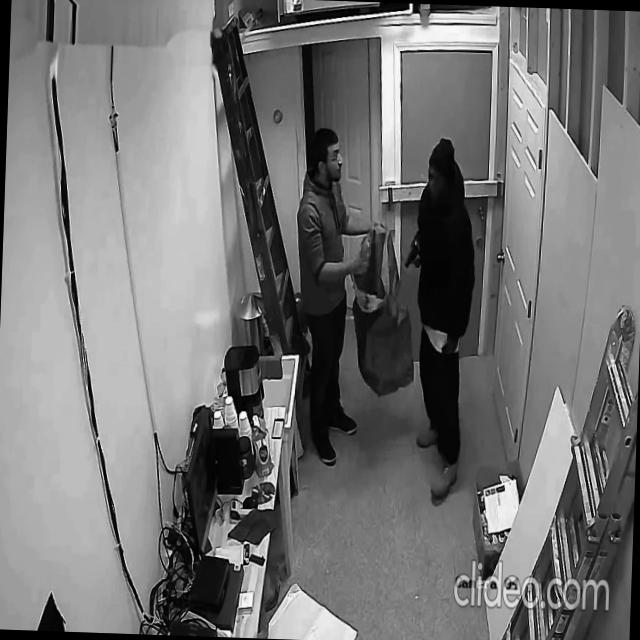gun: (404, 240, 419, 270)
person: (288, 125, 389, 468)
person with a gun: (396, 134, 480, 505)
